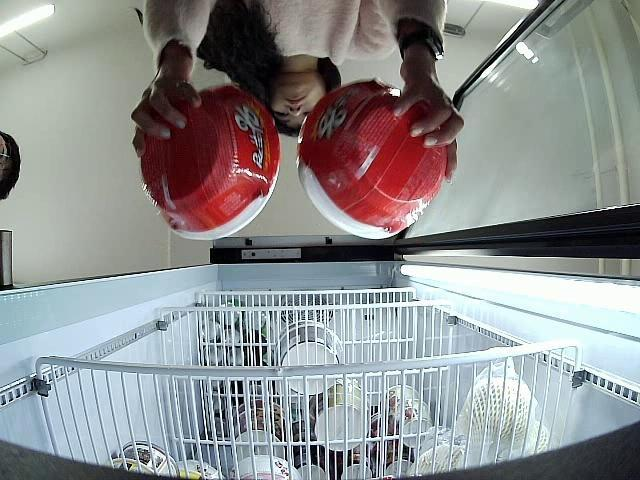10_wangTtukkeong: (297, 79, 448, 240), (140, 84, 279, 241)
